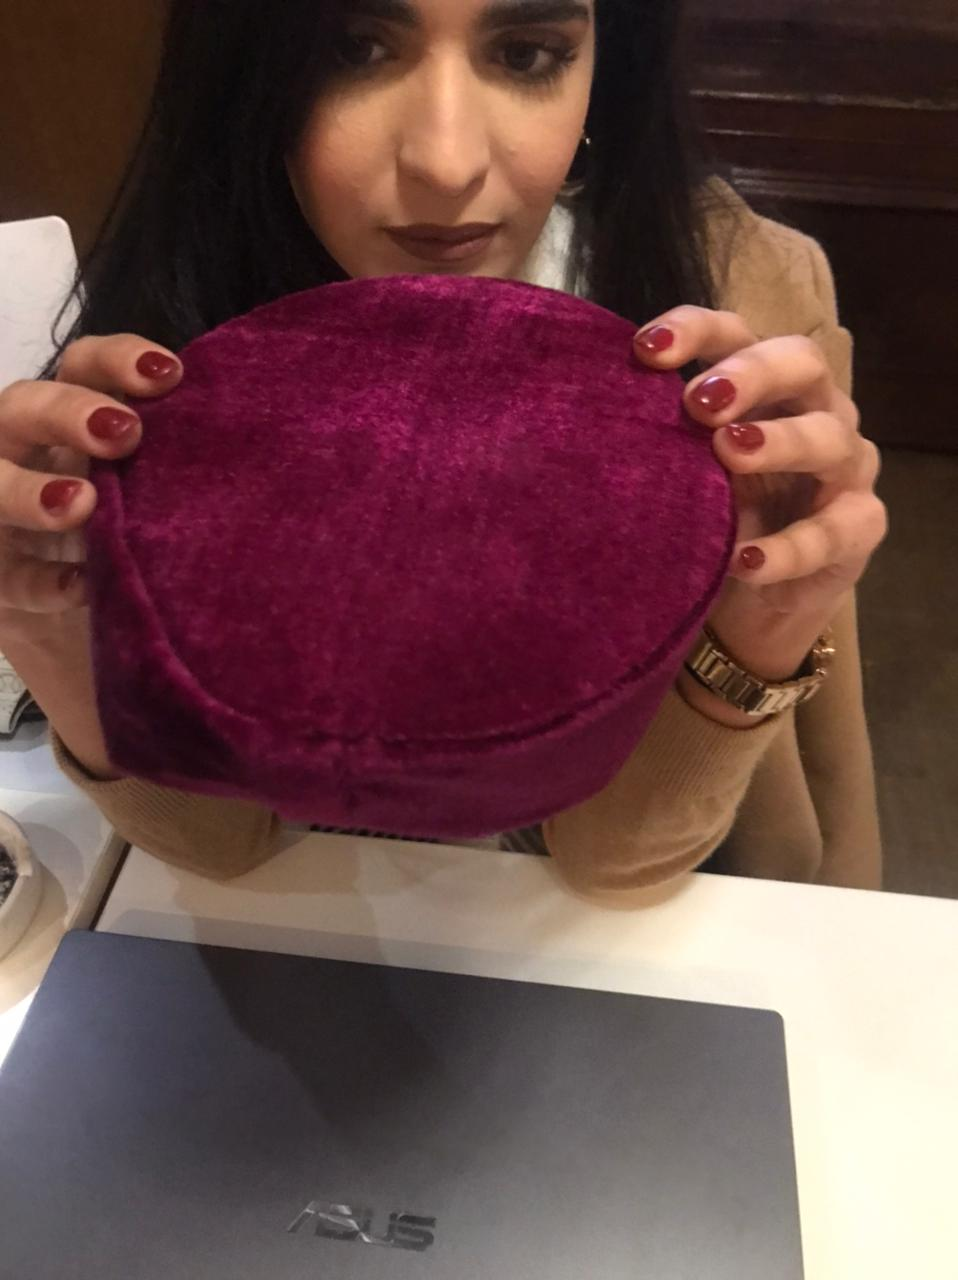chachia: (88, 252, 757, 840)
